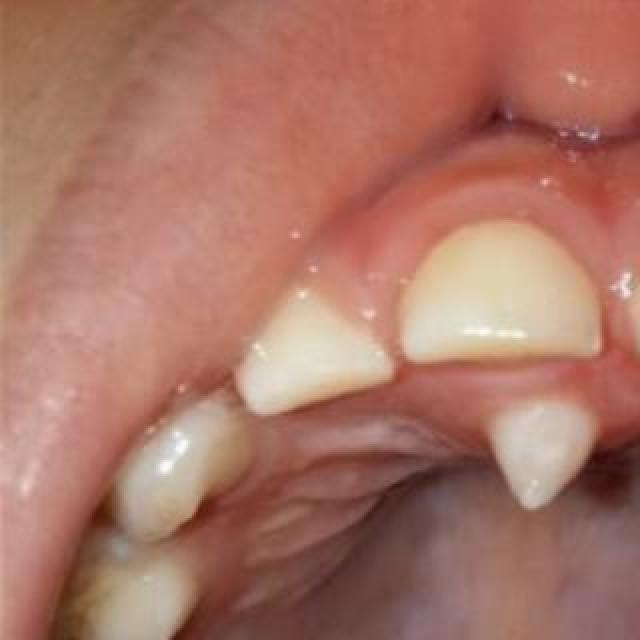maligned: (448, 370, 636, 540)
spacing: (355, 296, 425, 372), (207, 368, 269, 448), (582, 286, 640, 368)
